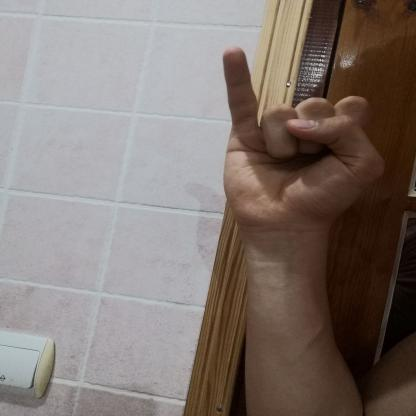MEEM: (195, 40, 403, 248)
